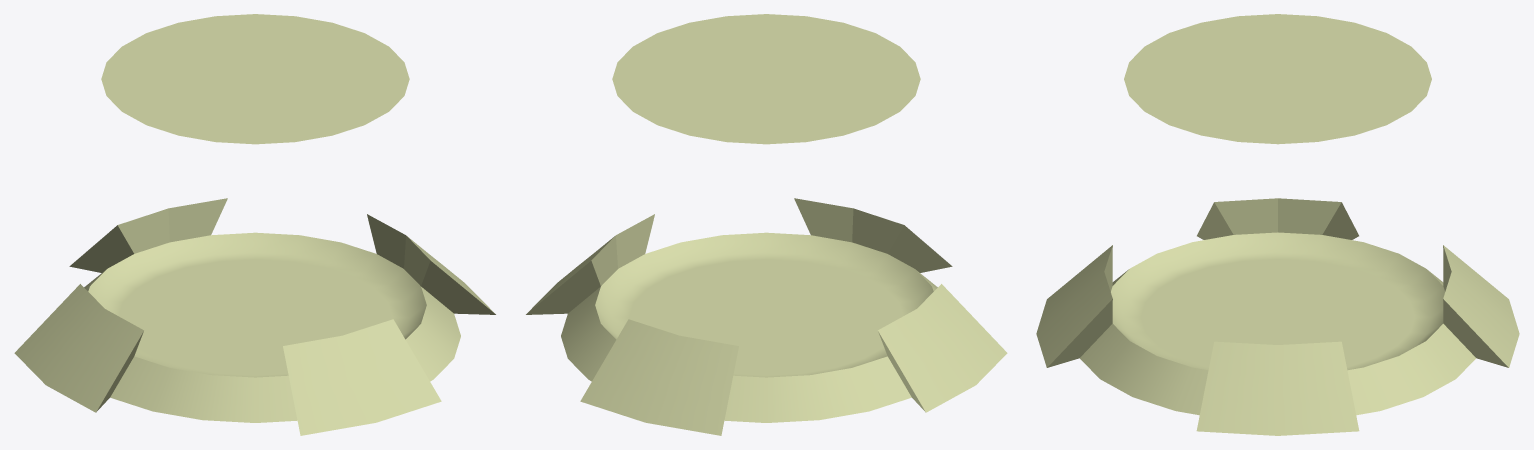
The picture shows the model from 3 angles, left to right: view 1: azimuth 30°, elevation 25°; view 2: azimuth 150°, elevation 25°; view 3: azimuth 270°, elevation 25°; orthographic projection.
Visible parts, largest first — view 1: Cone001, Cone002; view 2: Cone001, Cone002; view 3: Cone001, Cone002.
Part boxes in pixels (bbox=[...]): Cone001: bbox=[14, 198, 495, 435]; Cone002: bbox=[101, 14, 409, 144]; Cone001: bbox=[526, 198, 1007, 435]; Cone002: bbox=[612, 14, 920, 144]; Cone001: bbox=[1036, 198, 1519, 435]; Cone002: bbox=[1124, 14, 1431, 144].
Size of the model in its own units: 70.58 by 41.37 by 70.58.
